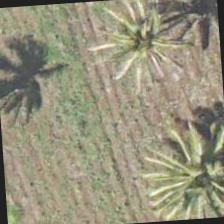Kelapa_Sawit: (98, 0, 195, 87), (148, 128, 223, 221)
